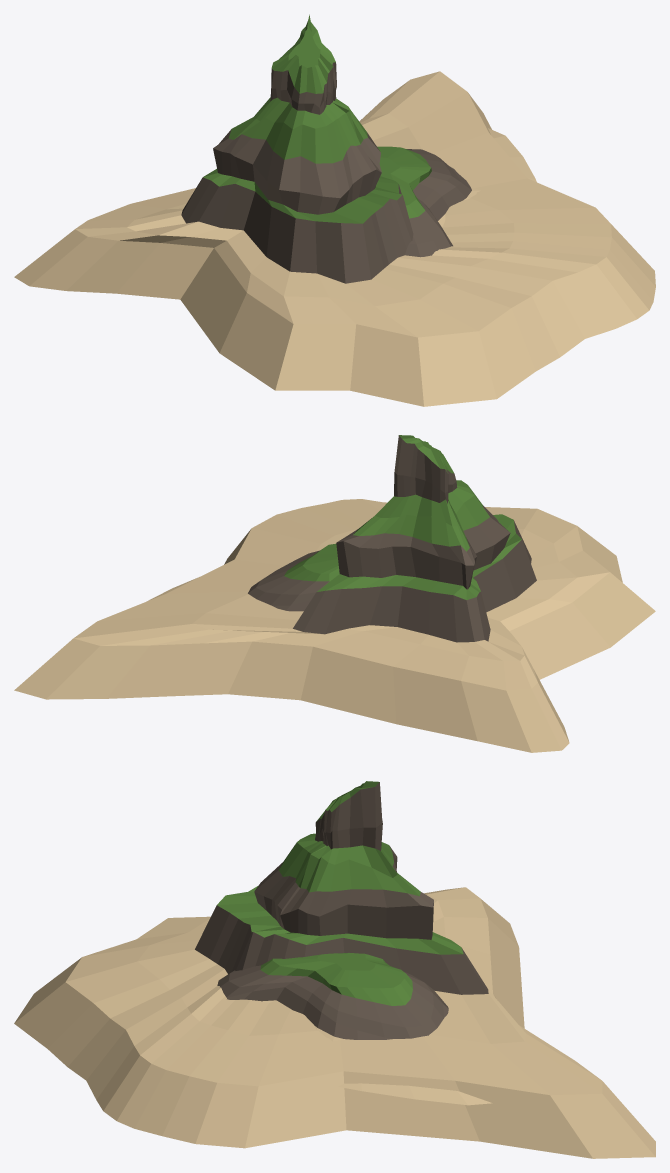
The model's file is ile.fbx.
3 views of the same model, one above another, from view 1: azimuth 30°, elevation 25°; view 2: azimuth 150°, elevation 25°; view 3: azimuth 270°, elevation 25° (orthographic). The views are drawn at different scales.
Parts seen in each view (by area): view 1: ile01, ile02; view 2: ile01, ile02; view 3: ile01, ile02.
Boxes of the visible parts, box(x1,y1,x2,y2) form: ile01: box(14, 14, 655, 406); ile02: box(377, 128, 536, 257); ile01: box(14, 435, 655, 752); ile02: box(148, 543, 339, 611); ile01: box(14, 781, 655, 1158); ile02: box(217, 953, 492, 1105).
Size of the model in its own units: 1964 by 899 by 2149.
